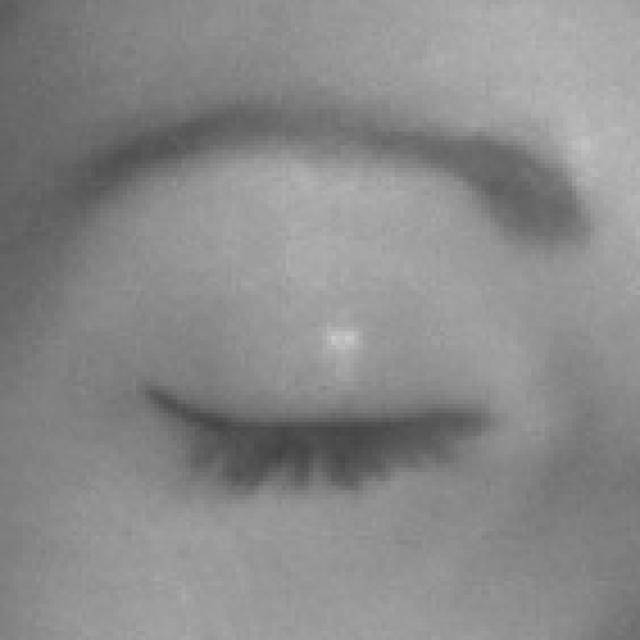close: (0, 60, 597, 529)
